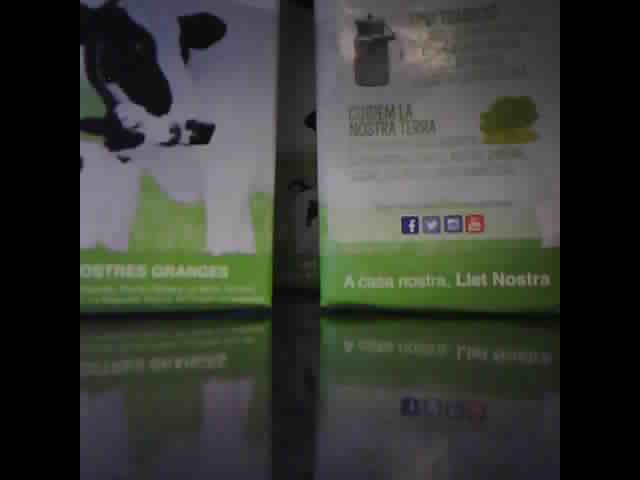leche: (317, 3, 559, 310), (81, 2, 276, 312), (274, 3, 318, 291)
